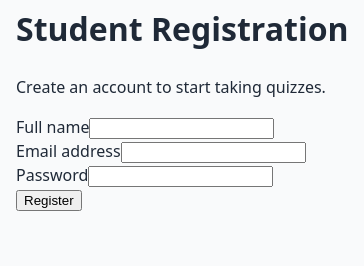
Scenario: OQS-04: Registration page › TC-AUTH-01 shows a success message and clears the form after registering
Type "Asha Rao" into the field labelled "Full name" at (182, 128), box 90,118 -> 274,139
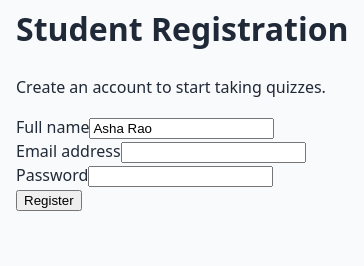
Type "asha@example.com" into the field labelled "Email address" at (213, 152), box 120,142 -> 306,163
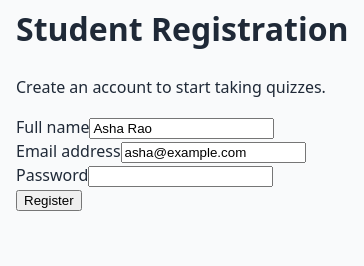
Type "SecurePass123" into the password field labelled "Password" at (181, 176), box 88,166 -> 273,187
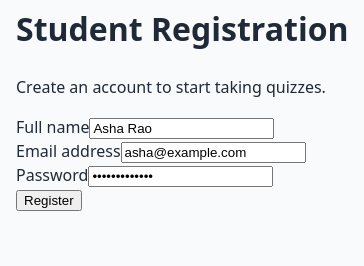
Click the button "Register" at (49, 200), box 16,190 -> 82,211
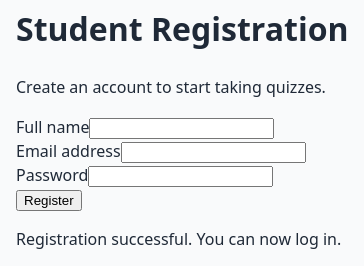
Expected: the message shows "Registration successful", 16,228 -> 341,250
Expected: the field labelled "Full name" is empty, 90,118 -> 274,139
